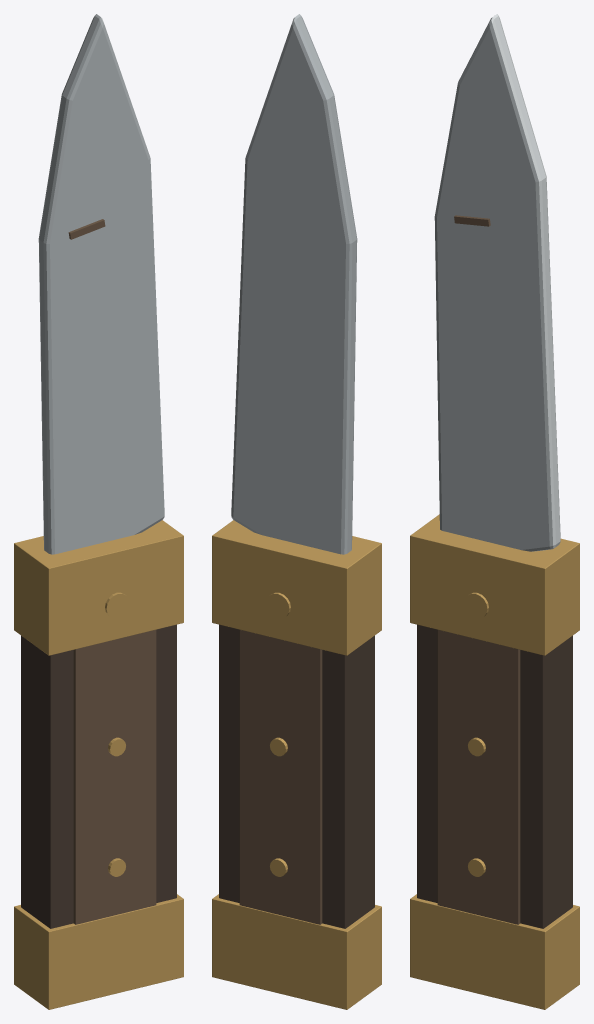
Rendered from pocket-knife.glb.
The picture shows the model from 3 angles, left to right: view 1: azimuth 30°, elevation 25°; view 2: azimuth 150°, elevation 25°; view 3: azimuth 330°, elevation 25°; orthographic projection.
Visible parts, largest first — view 1: open clip-point blade, back spring, horn handle, hinge bolster, lower bolster, hinge pin; view 2: open clip-point blade, back spring, horn handle, hinge bolster, lower bolster, hinge pin; view 3: open clip-point blade, back spring, horn handle, hinge bolster, lower bolster, hinge pin.
Part boxes in pixels (x1,y1,x2,y2): open clip-point blade: (38,14,164,554); back spring: (73,630,156,924); horn handle: (21,624,176,928); hinge bolster: (14,520,183,655); lower bolster: (14,894,183,1009); hinge pin: (105,592,129,618); open clip-point blade: (231,14,357,554); back spring: (239,630,322,924); horn handle: (219,624,374,928); hinge bolster: (212,520,381,655); lower bolster: (212,894,381,1009); hinge pin: (266,592,290,618); open clip-point blade: (434,14,560,551); back spring: (437,630,520,924); horn handle: (417,624,572,928); hinge bolster: (410,514,579,655); lower bolster: (410,894,579,1009); hinge pin: (464,592,488,618).
Size of the model in its own units: 0.047 by 0.3202 by 0.023.
